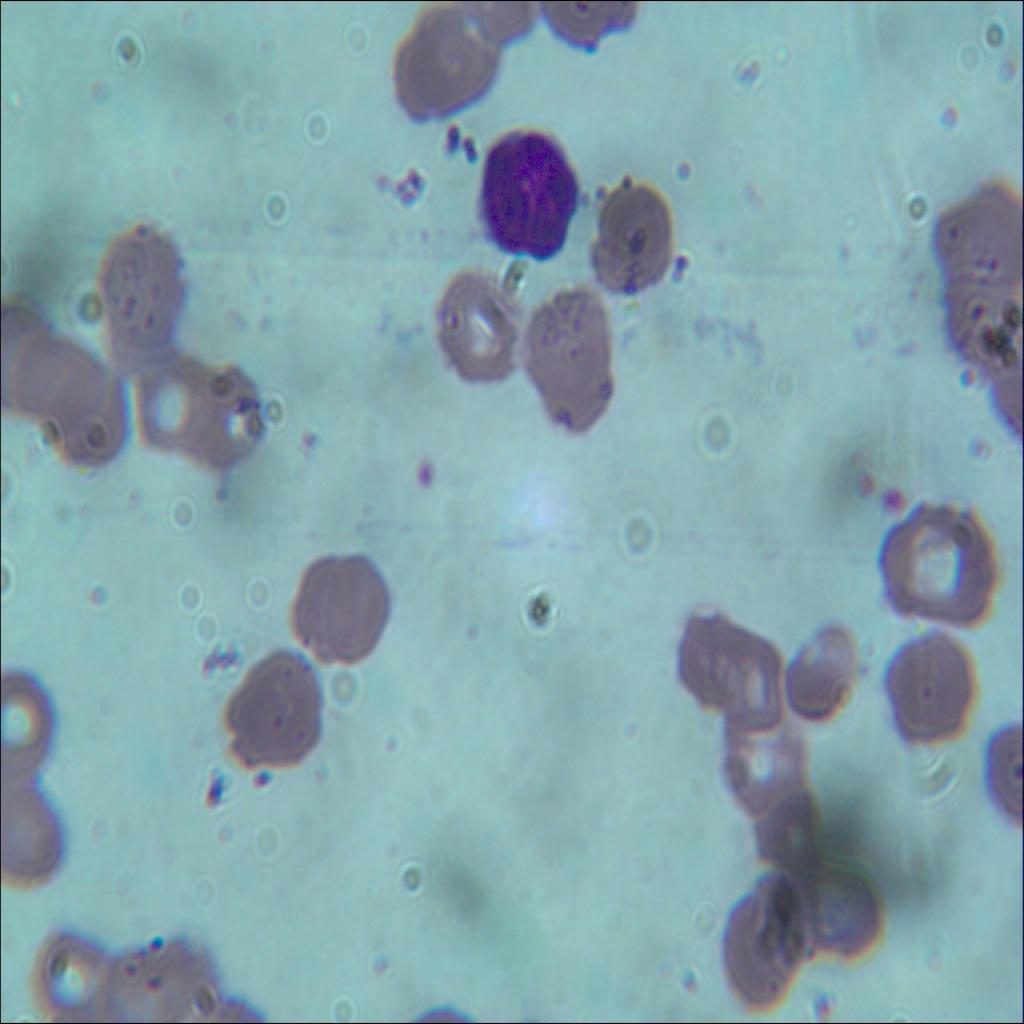Eritrosit: (878, 499, 996, 621), (884, 618, 978, 762), (218, 647, 326, 768), (386, 8, 502, 118), (289, 547, 391, 665), (430, 262, 520, 395), (524, 294, 611, 426), (681, 614, 783, 726), (96, 221, 183, 342), (933, 264, 1023, 378), (934, 172, 1023, 286), (798, 852, 884, 959), (726, 886, 806, 1000), (186, 360, 266, 472), (594, 175, 668, 295), (28, 922, 115, 1023), (722, 715, 808, 814), (52, 371, 130, 475), (112, 942, 206, 1023), (134, 358, 211, 454), (748, 778, 826, 870), (18, 338, 95, 423), (789, 627, 856, 722), (0, 784, 63, 881), (0, 671, 50, 778)
Limfoblast: (478, 129, 576, 265)
Platelet: (882, 484, 915, 525), (935, 92, 969, 131), (411, 454, 443, 492), (201, 768, 228, 812), (434, 117, 463, 155), (668, 152, 703, 182), (666, 251, 695, 286), (815, 986, 841, 1023), (298, 418, 318, 459), (856, 461, 876, 501), (249, 766, 273, 796), (591, 174, 611, 209), (144, 928, 166, 956), (618, 165, 639, 194), (462, 139, 483, 164)
